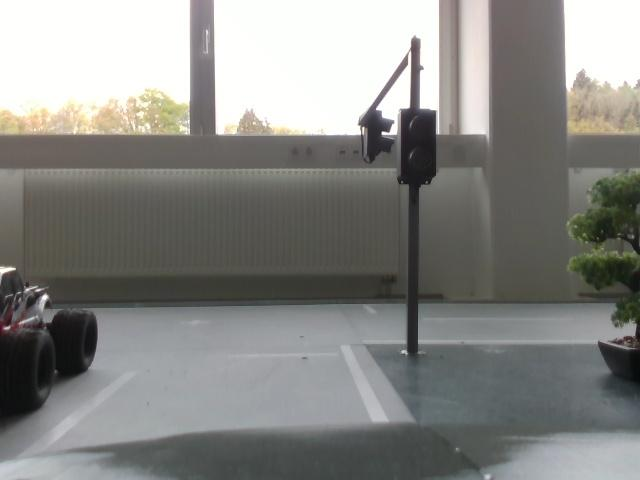car: (1, 275, 91, 407)
potted plant: (564, 166, 640, 371)
traffic light: (402, 109, 433, 186), (358, 110, 394, 165)
